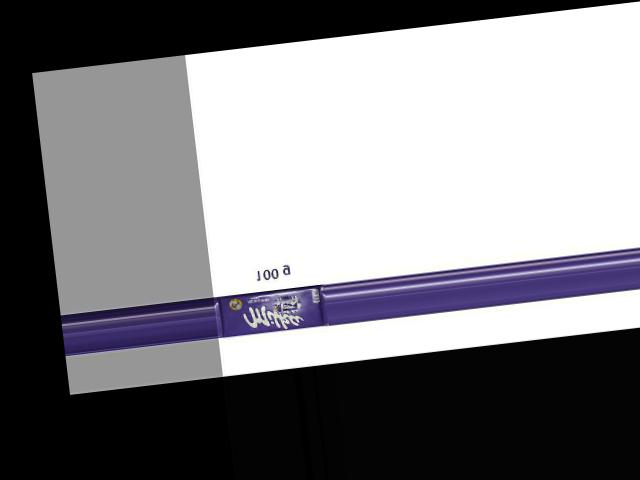chocolate: (215, 276, 330, 338)
